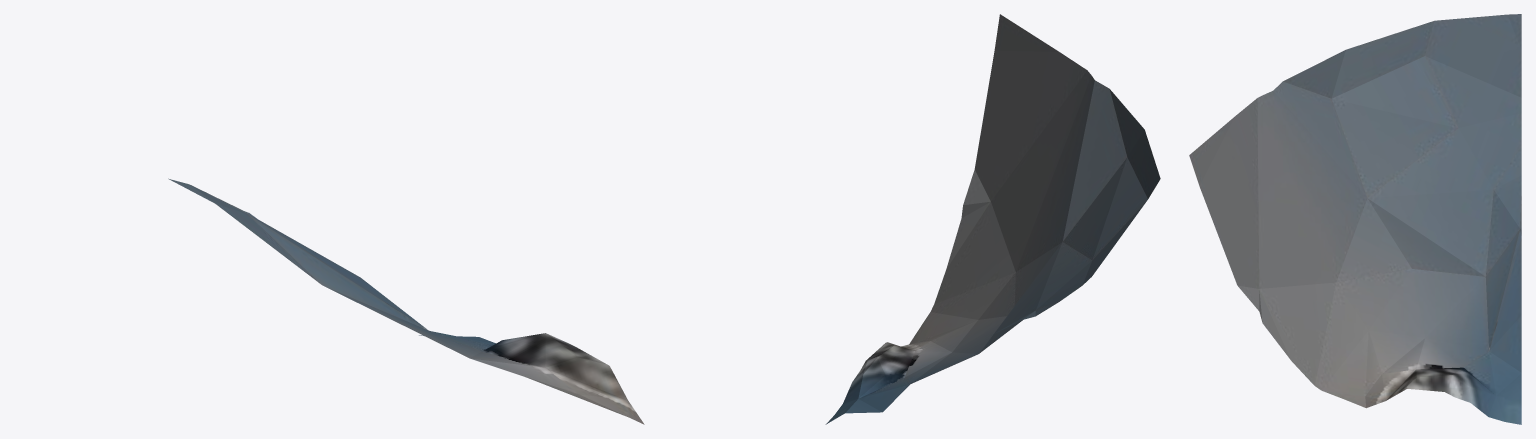
3 views of the same model, side by side, from view 1: azimuth 30°, elevation 25°; view 2: azimuth 150°, elevation 25°; view 3: azimuth 270°, elevation 25° (orthographic). The views are drawn at different scales.
Size of the model in its own units: 1.08 by 0.9628 by 1.08.
2 materials, 2 textured.
